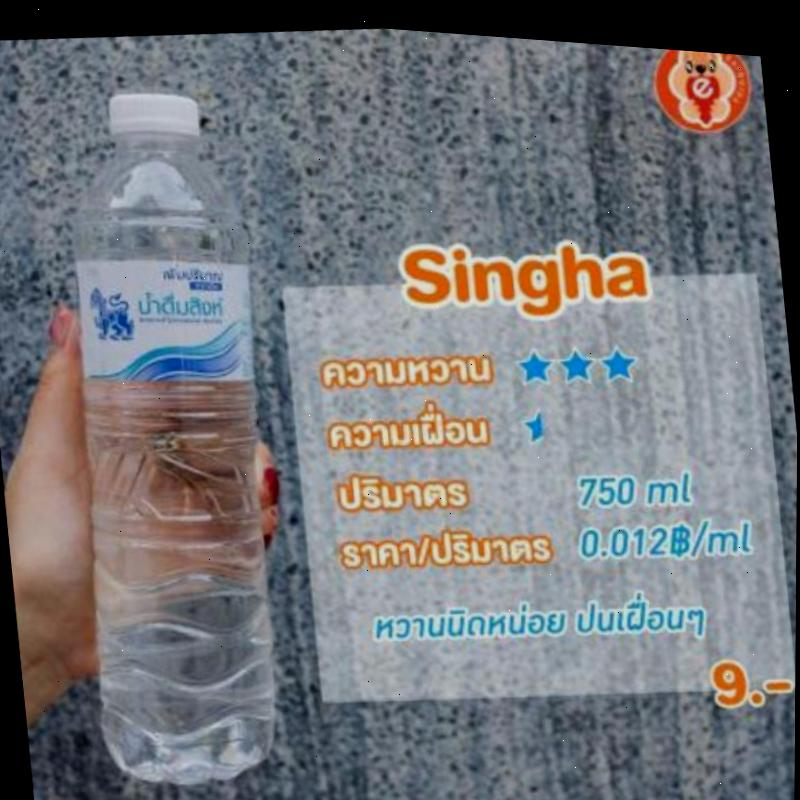botella: (42, 74, 306, 795)
